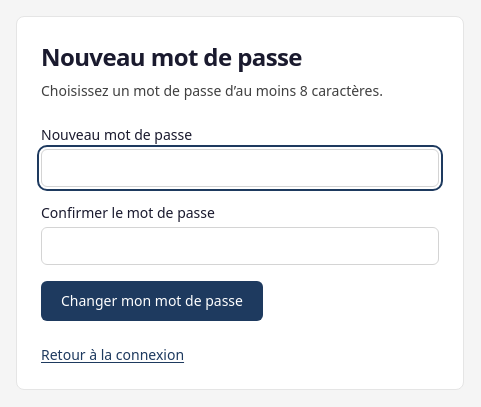
Scenario: /reinitialiser-mot-de-passe › N’OUVRE AUCUNE SESSION : il renvoie vers la connexion
In the password field labelled "Nouveau mot de passe": (240, 168) [41, 149, 439, 187], type "nouveau-mdp-1"
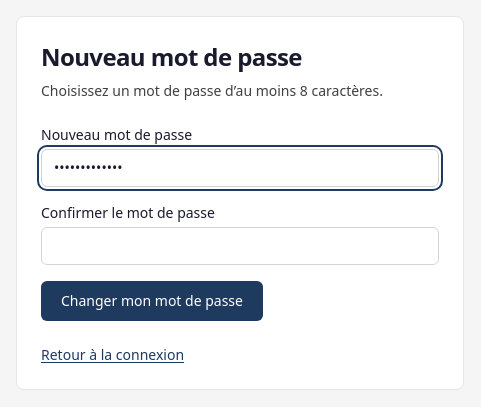
In the password field labelled "Confirmer le mot de passe": (240, 246) [41, 227, 439, 265], type "nouveau-mdp-1"
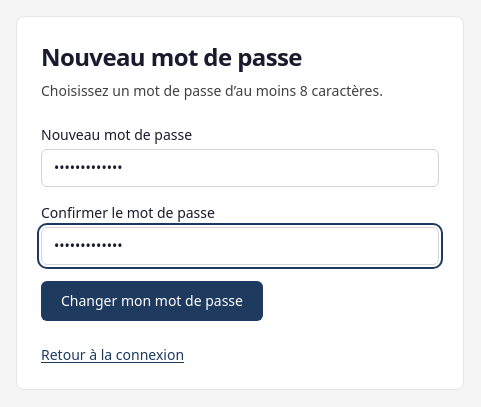
Click the button "Changer mon mot de passe": click(152, 301) [41, 281, 263, 321]
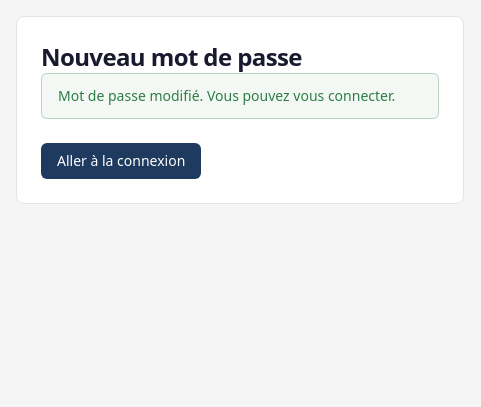
Check: the message shows "Vous pouvez vous connecter", box [58, 86, 395, 105]
